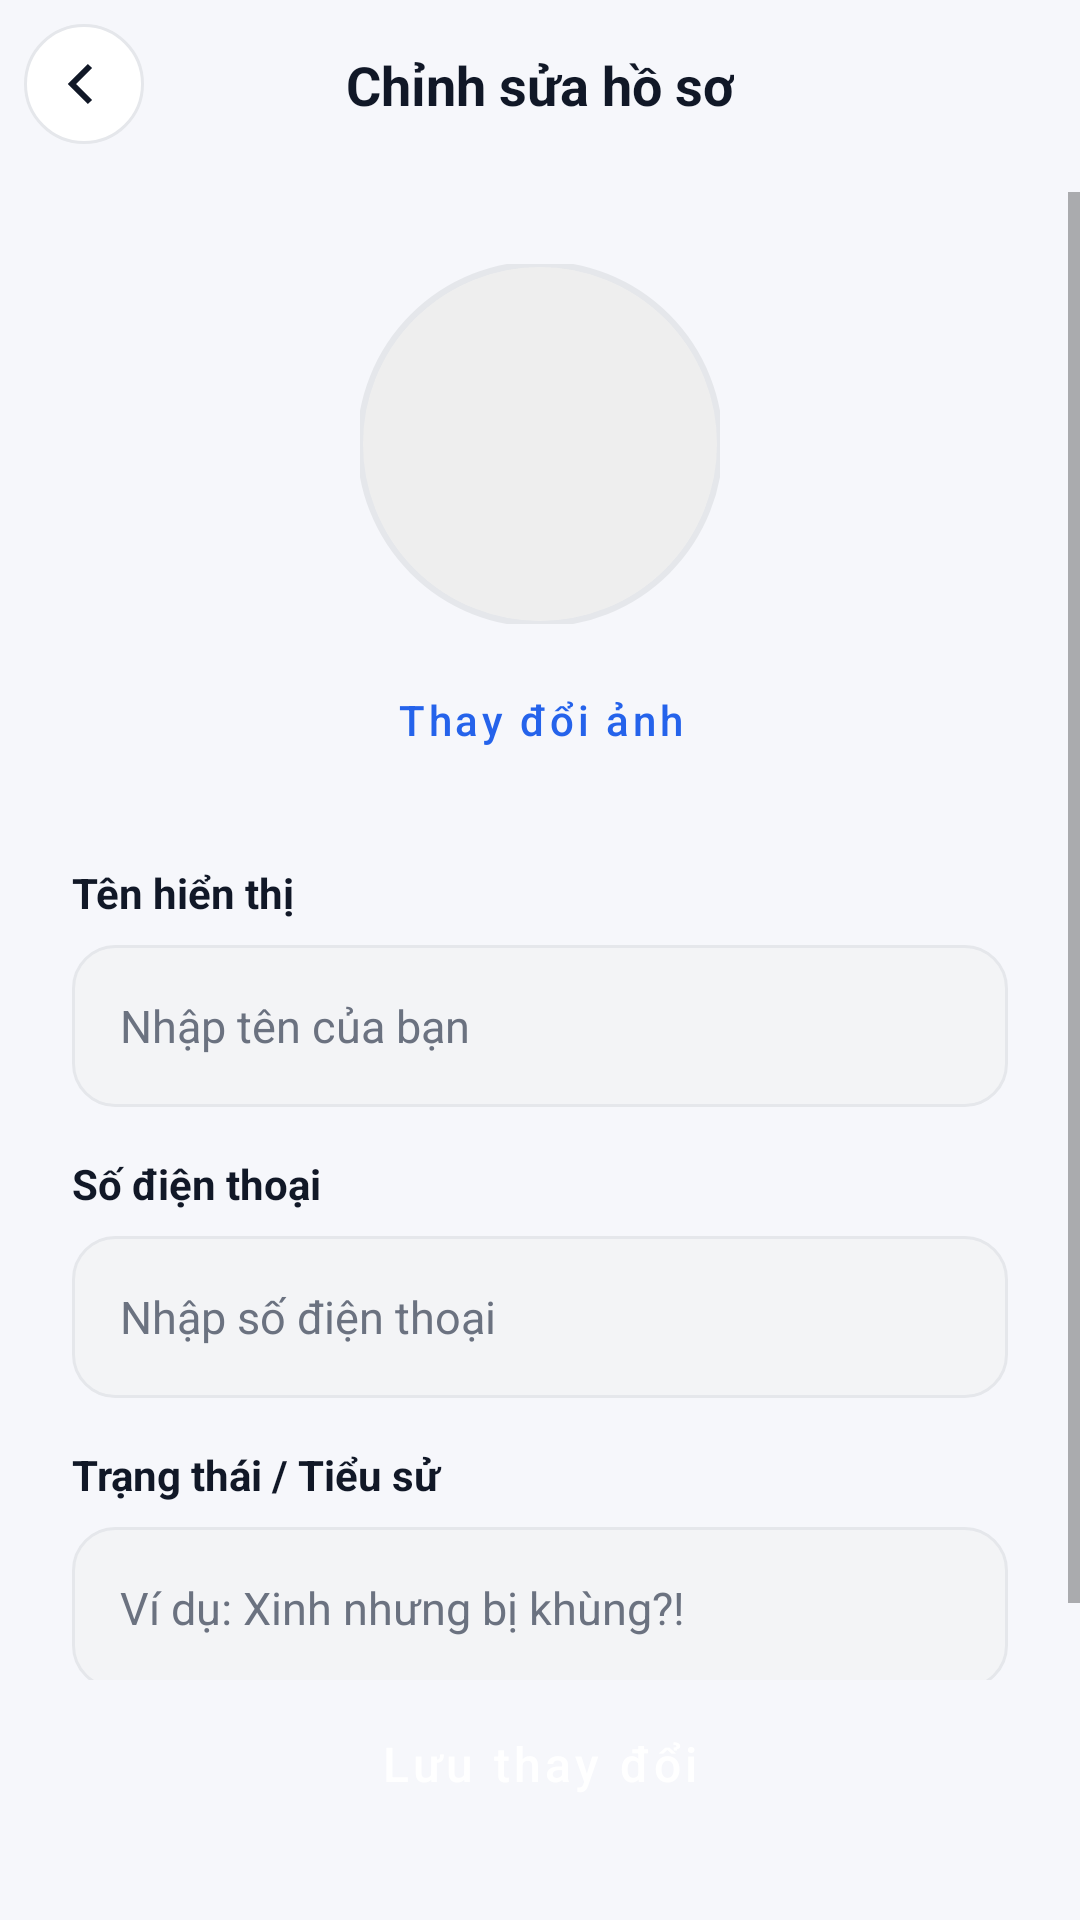

Icons on this 1080px x 1920px Android screen, each with the point to tap as [x,y]:
back: [84,84]
